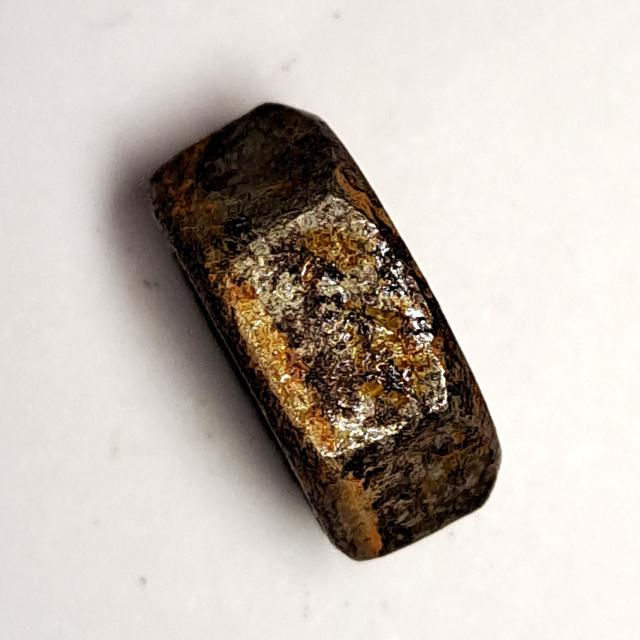Side_Rust: (130, 92, 541, 577)
